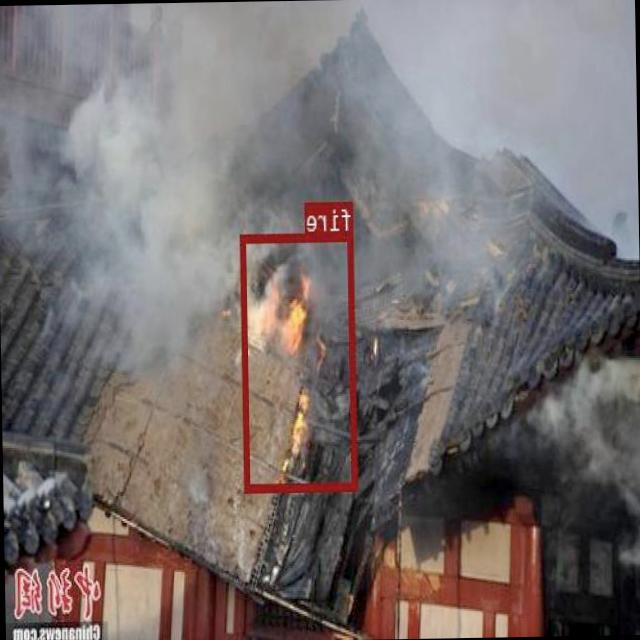fire: (241, 232, 358, 490)
